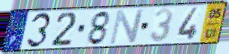2: (49, 11, 78, 48)
3: (24, 11, 54, 49), (148, 7, 175, 45)
4: (175, 7, 200, 42)
8: (86, 9, 111, 47)
N: (108, 8, 146, 46)
